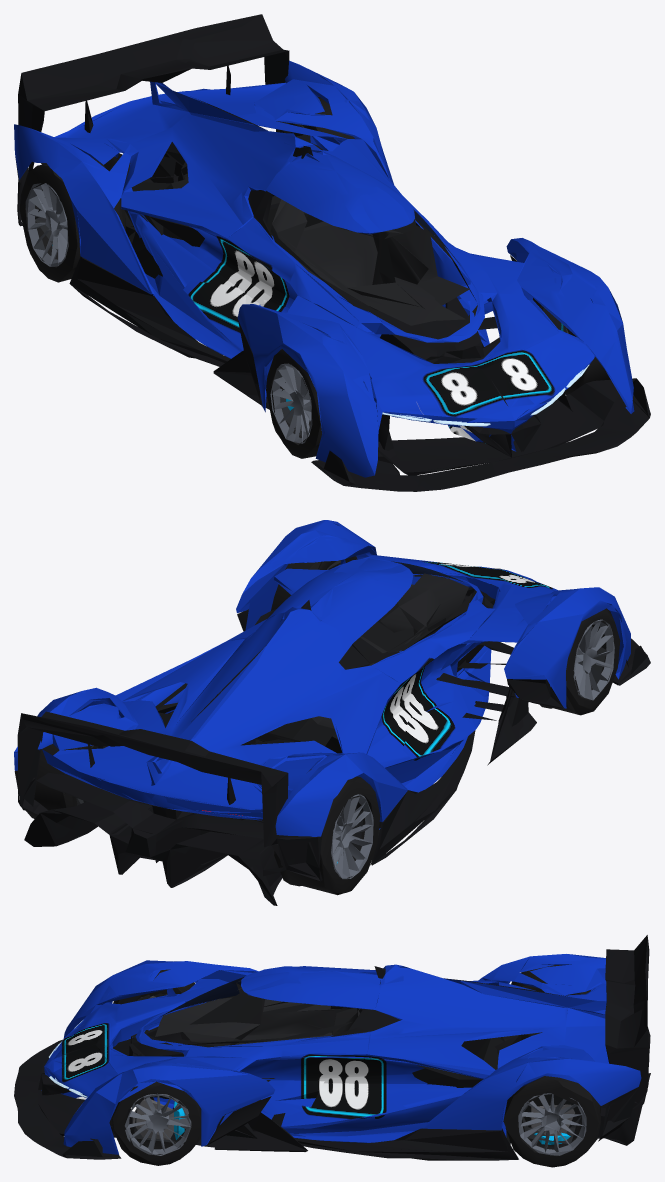
File: aegis_lod2.glb
3 renders of one model, top to bottom at view 1: azimuth 30°, elevation 25°; view 2: azimuth 150°, elevation 25°; view 3: azimuth 270°, elevation 25°, orthographic. The views are drawn at different scales.
Parts seen in each view (by area): view 1: Body, Wheel_RR, Wheel_FR, Wheel_FL; view 2: Body, Wheel_RR, Wheel_FR, Wheel_RL, Wheel_FL; view 3: Body, Wheel_RL, Wheel_FL, Wheel_FR.
Boxes of the visible parts, <box> form: Body: <box>14,14,650,491</box>; Wheel_RR: <box>19,157,125,282</box>; Wheel_FR: <box>266,349,321,458</box>; Wheel_FL: <box>533,298,610,394</box>; Body: <box>14,520,650,905</box>; Wheel_RR: <box>274,769,380,895</box>; Wheel_FR: <box>539,608,620,715</box>; Wheel_RL: <box>26,710,93,818</box>; Wheel_FL: <box>271,556,357,610</box>; Body: <box>14,935,650,1160</box>; Wheel_RL: <box>503,1076,600,1167</box>; Wheel_FL: <box>112,1081,201,1165</box>; Wheel_FR: <box>113,969,194,1038</box>.
Size of the model in its own units: 2.08 by 1.12 by 4.49.
Materials: 4 (3 with a texture image).
